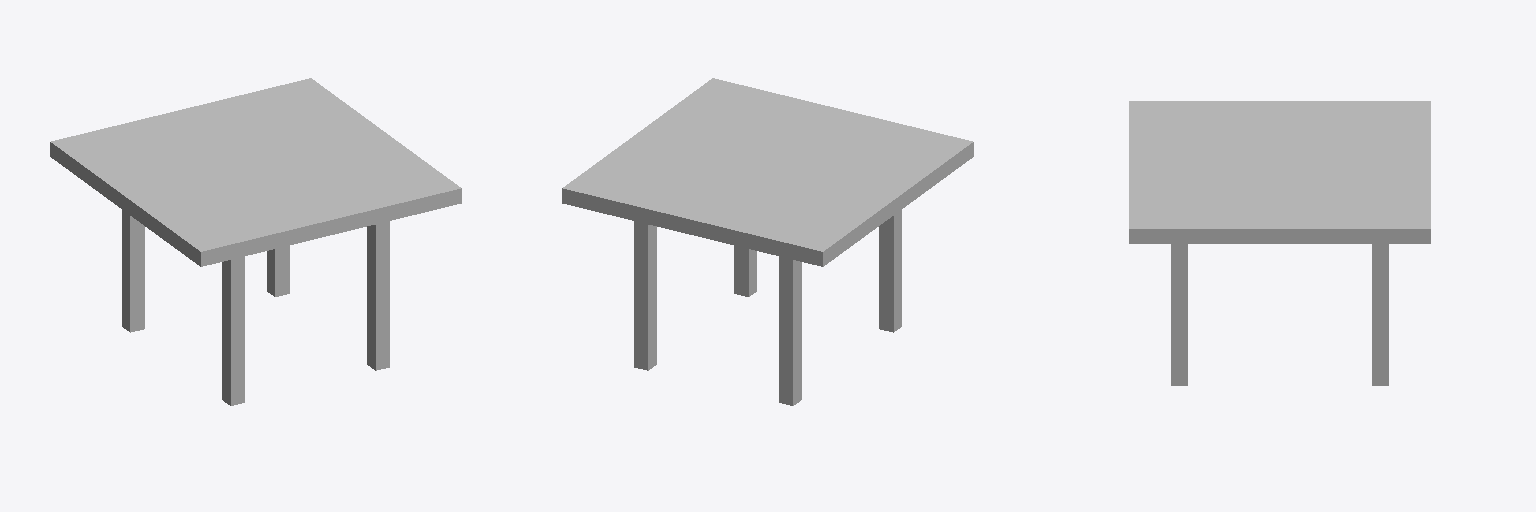
File: table.obj
3 views of the same model, side by side, from view 1: azimuth 30°, elevation 25°; view 2: azimuth 150°, elevation 25°; view 3: azimuth 270°, elevation 25° (orthographic).
Visible parts, largest first — view 1: Cube, Cube.003, Cube.004, Cube.002, Cube.001; view 2: Cube, Cube.001, Cube.002, Cube.003, Cube.004; view 3: Cube, Cube.001, Cube.004.
Boxes of the visible parts, x1,y1,x2,y2 form: Cube: [50, 78, 461, 266]; Cube.003: [222, 256, 244, 405]; Cube.004: [367, 221, 389, 370]; Cube.002: [122, 210, 144, 332]; Cube.001: [267, 245, 289, 296]; Cube: [562, 78, 973, 266]; Cube.001: [634, 221, 656, 370]; Cube.002: [779, 256, 801, 405]; Cube.003: [879, 210, 901, 332]; Cube.004: [734, 245, 756, 296]; Cube: [1129, 101, 1430, 243]; Cube.001: [1372, 244, 1388, 385]; Cube.004: [1171, 244, 1187, 385].
Size of the model in its own units: 1.8 by 1.2 by 1.8.